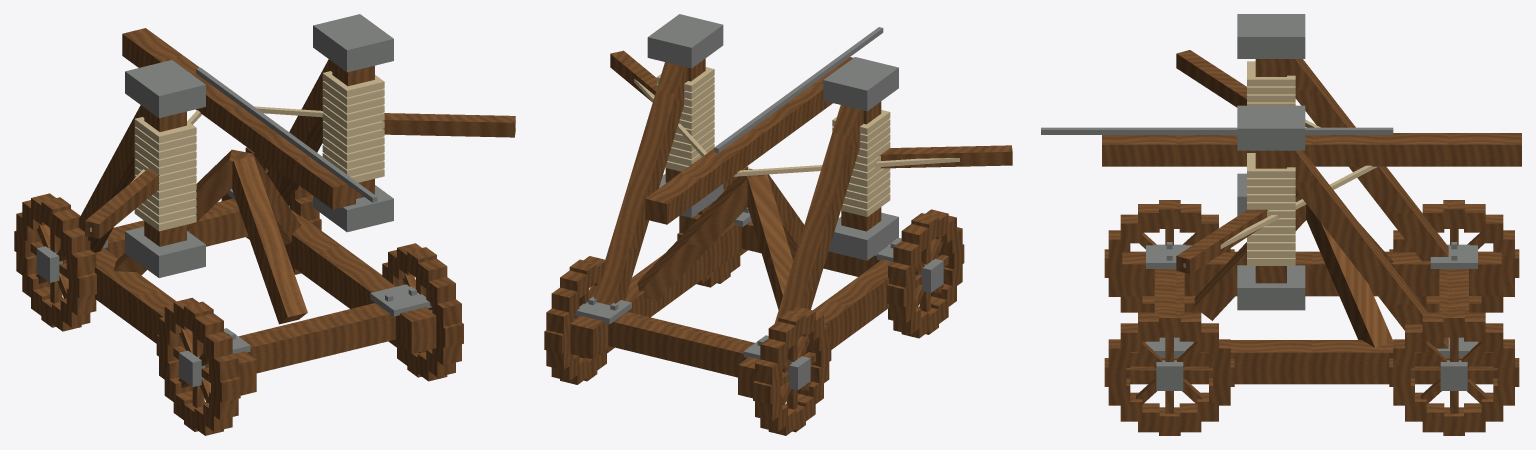
3 views of the same model, side by side, from view 1: azimuth 30°, elevation 25°; view 2: azimuth 150°, elevation 25°; view 3: azimuth 270°, elevation 25° (orthographic). The views are drawn at different scales.
Size of the model in its own units: 367 by 249 by 355.
Materials: 3 (1 with a texture image).
